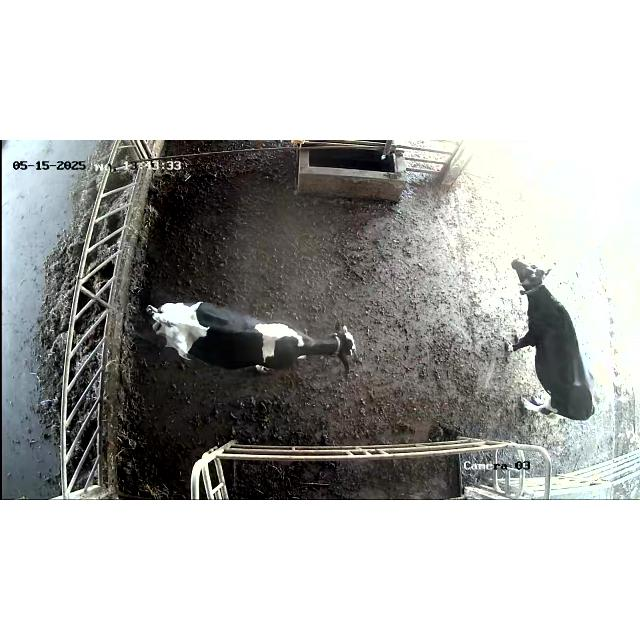stand: (138, 291, 372, 385), (496, 253, 600, 432)
